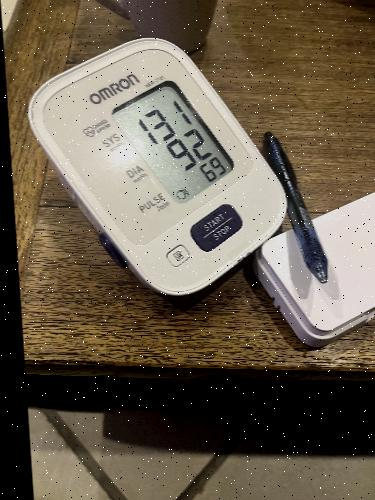bpm: (109, 68, 238, 210)
